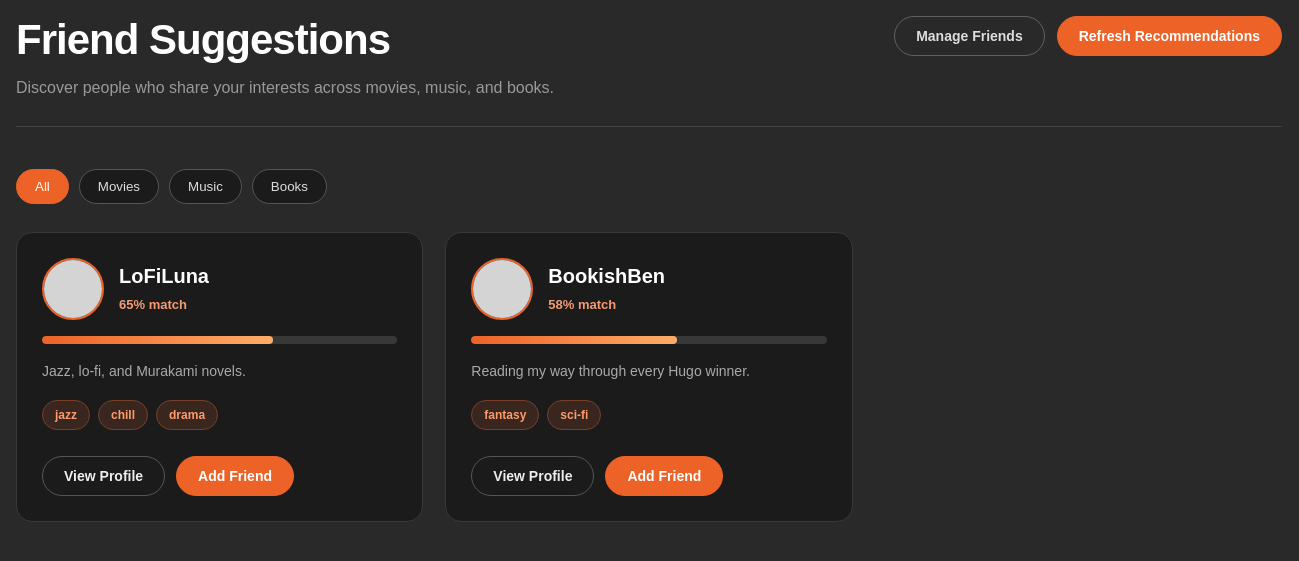
Test: FriendSuggestionsPage › sends a friend request from a suggestion card
Click the button "Add Friend" below "chill" at (235, 476), box [176,456,294,496]
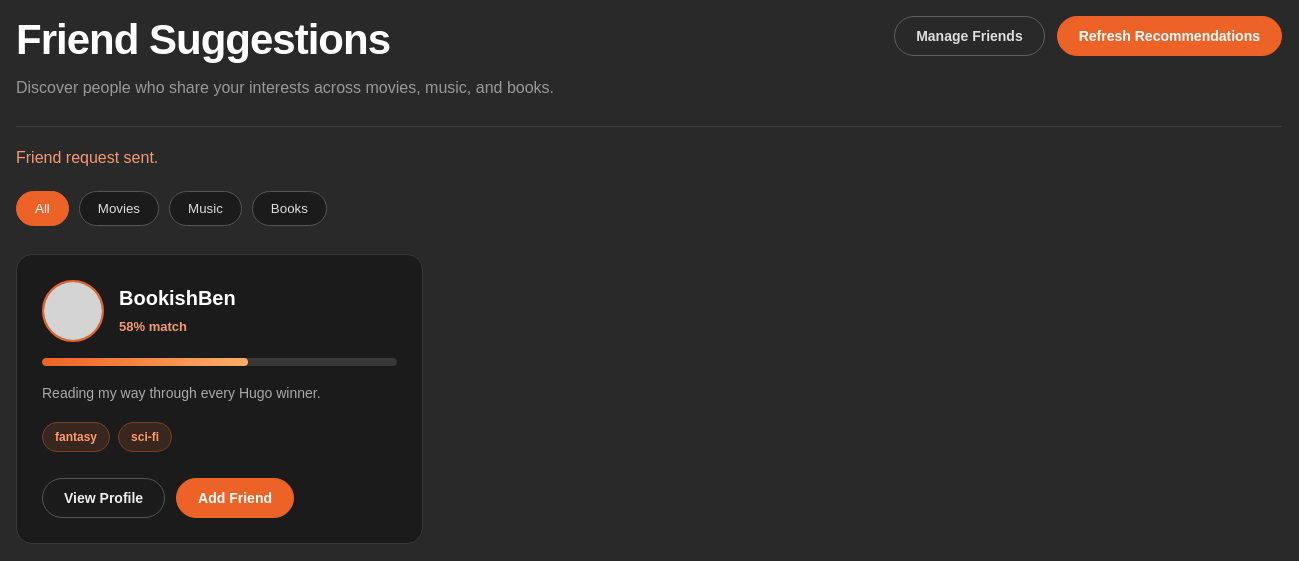
Check: the message reads "Friend request sent.", box [16,149,158,166]
Check: the heading "LoFiLuna" is gone
